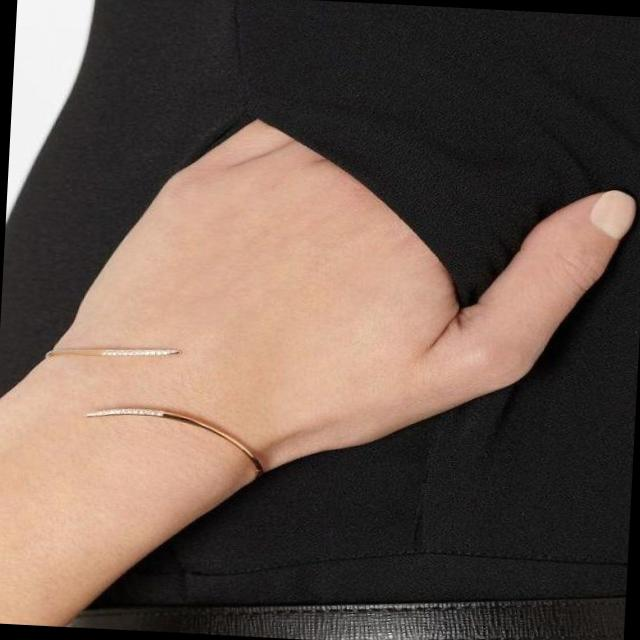Nail: (591, 190, 635, 240)
